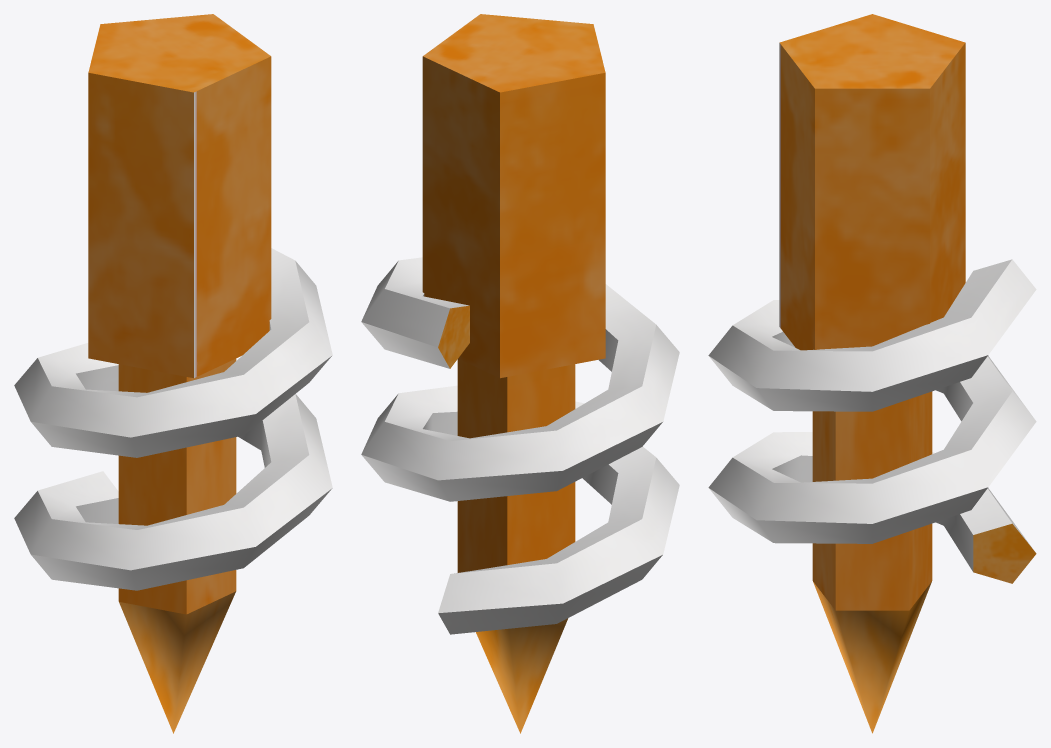
Rendered from Spring_leg.fbx.
3 renders of one model, left to right at view 1: azimuth 30°, elevation 25°; view 2: azimuth 150°, elevation 25°; view 3: azimuth 270°, elevation 25°, orthographic.
Visible parts, largest first — view 1: Spring_Leg; view 2: Spring_Leg; view 3: Spring_Leg.
Boxes of the visible parts, x1,y1,x2,y2 form: Spring_Leg: (14, 14, 332, 733); Spring_Leg: (361, 14, 679, 733); Spring_Leg: (708, 14, 1036, 733).
Bounding box in the file's own units: 5.63 × 12.84 × 5.63.
